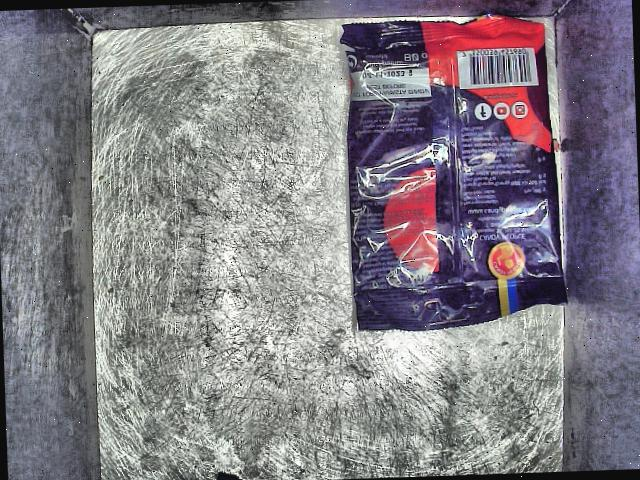Plastic: (327, 0, 640, 335)
